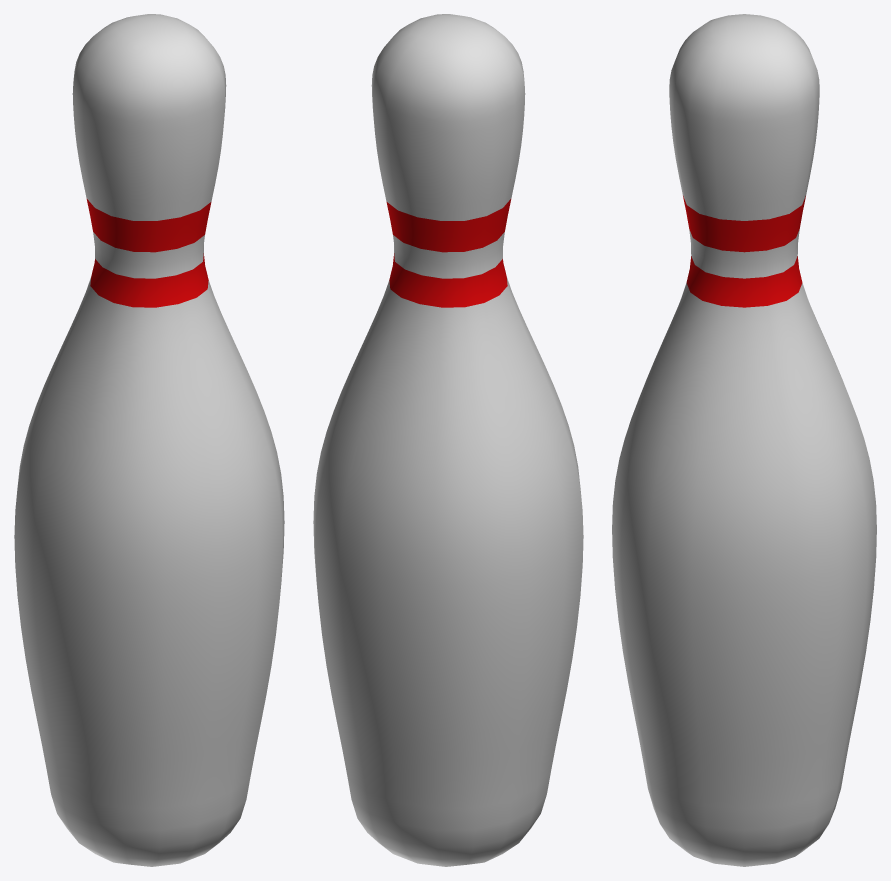
The picture shows the model from 3 angles, left to right: view 1: azimuth 30°, elevation 25°; view 2: azimuth 150°, elevation 25°; view 3: azimuth 270°, elevation 25°; orthographic projection.
Parts seen in each view (by area): view 1: Pin; view 2: Pin; view 3: Pin.
Boxes of the visible parts, <box> form: Pin: <box>14,14,284,866</box>; Pin: <box>313,14,583,866</box>; Pin: <box>612,14,876,866</box>.
Size of the model in its own units: 1.01 by 3.42 by 0.9984.
